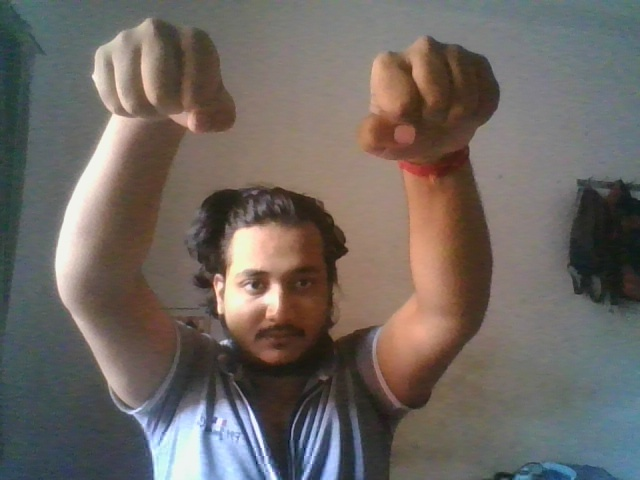Close: (90, 17, 238, 135), (358, 33, 501, 155)
